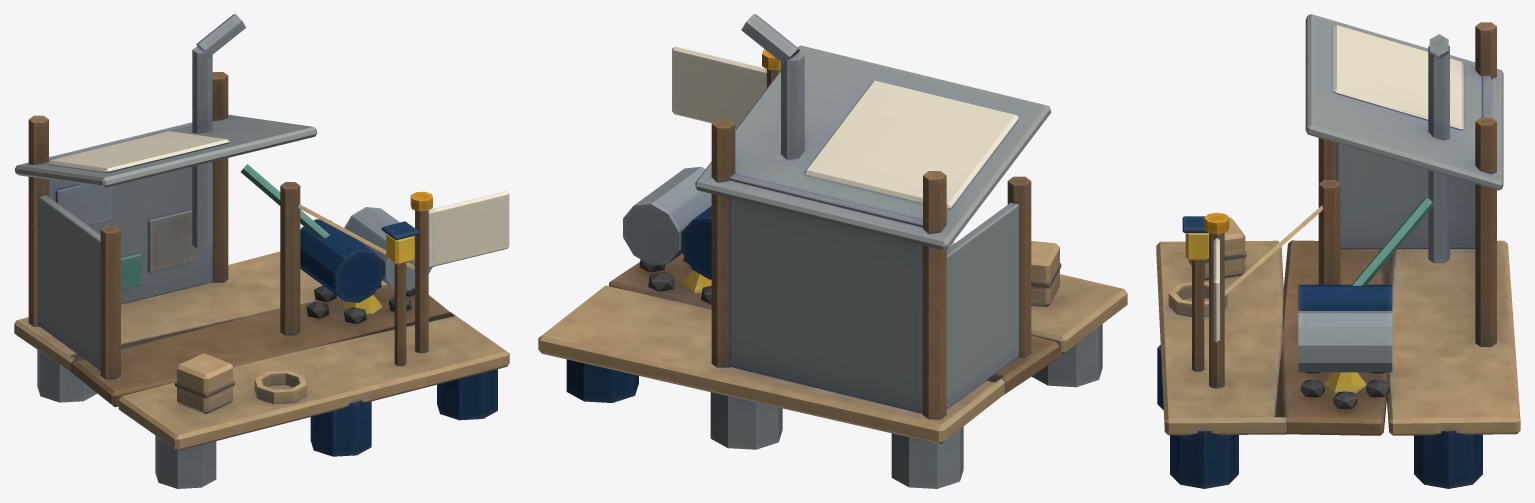
Rendered from refinery-1.glb.
The picture shows the model from 3 angles, left to right: view 1: azimuth 30°, elevation 25°; view 2: azimuth 150°, elevation 25°; view 3: azimuth 270°, elevation 25°; orthographic projection. The views are drawn at different scales.
Parts seen in each view (by area): view 1: refinery-1; view 2: refinery-1; view 3: refinery-1.
Boxes of the visible parts, left/top/right/bottom form: refinery-1: left=14, top=14, right=509, bottom=488; refinery-1: left=538, top=14, right=1127, bottom=488; refinery-1: left=1156, top=14, right=1520, bottom=488.
Size of the model in its own units: 1.46 by 1.32 by 1.16.
1 material, 1 textured.
